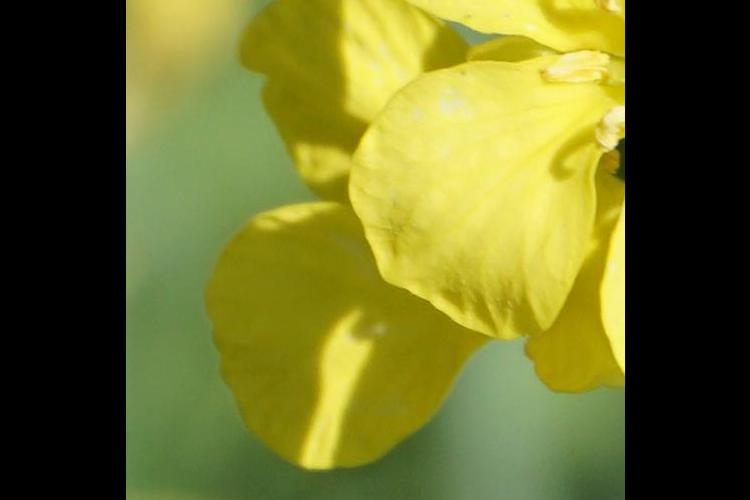yellow: (222, 1, 617, 487)
